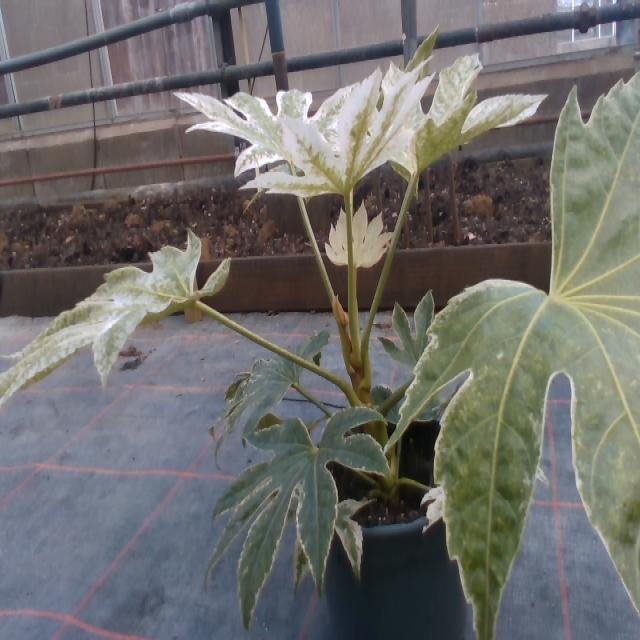Fatsia-japonica: (403, 77, 640, 610), (0, 227, 231, 435), (219, 397, 386, 614), (379, 41, 542, 187), (242, 73, 426, 202), (170, 64, 368, 177), (208, 327, 338, 433), (384, 292, 454, 383), (325, 198, 403, 274)
